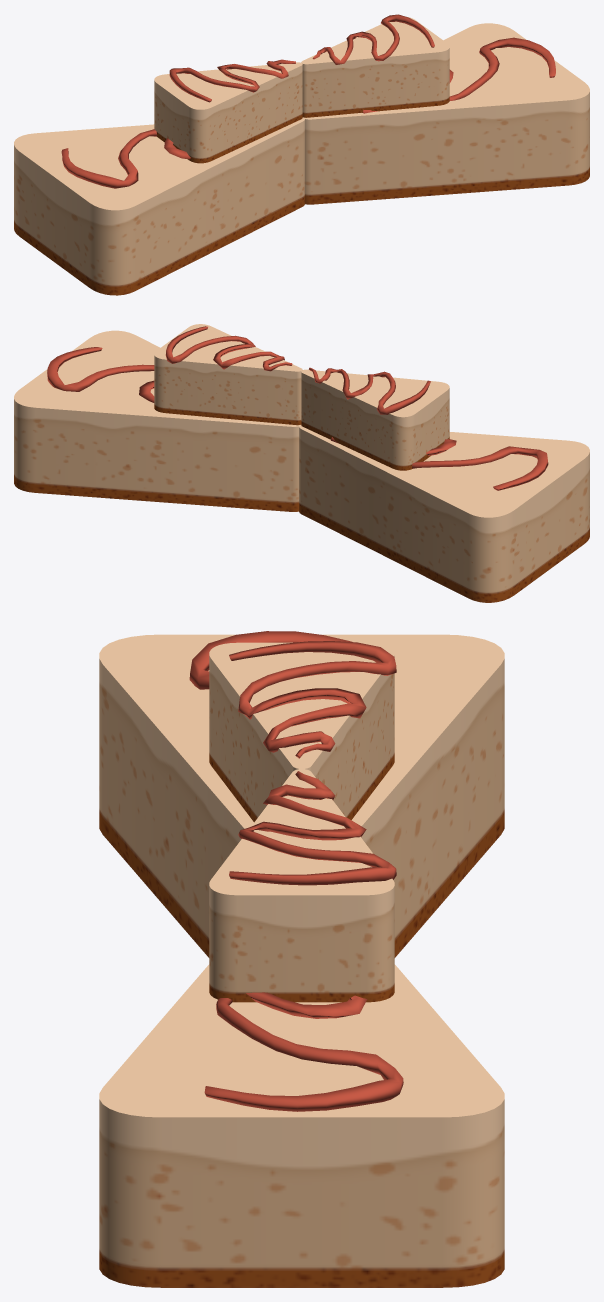
Rendered from cake4.fbx.
The picture shows the model from 3 angles, top to bottom: view 1: azimuth 30°, elevation 25°; view 2: azimuth 150°, elevation 25°; view 3: azimuth 270°, elevation 25°; orthographic projection. The views are drawn at different scales.
Visible parts, largest first — view 1: polySurface604, polySurface603, polySurface606, polySurface602; view 2: polySurface604, polySurface603, polySurface602, polySurface606; view 3: polySurface603, polySurface604, polySurface602, polySurface606.
Part boxes in pixels (x1,y1,x2,y2): polySurface604: (14,117,304,295); polySurface603: (305,23,589,204); polySurface606: (154,59,302,163); polySurface602: (301,14,449,117); polySurface604: (299,425,589,602); polySurface603: (14,330,299,511); polySurface602: (154,324,302,425); polySurface606: (301,367,449,470); polySurface603: (99,964,504,1287); polySurface604: (99,631,504,957); polySurface602: (209,769,396,1002); polySurface606: (209,641,396,822).
Size of the model in its own units: 552 by 155 by 196.
